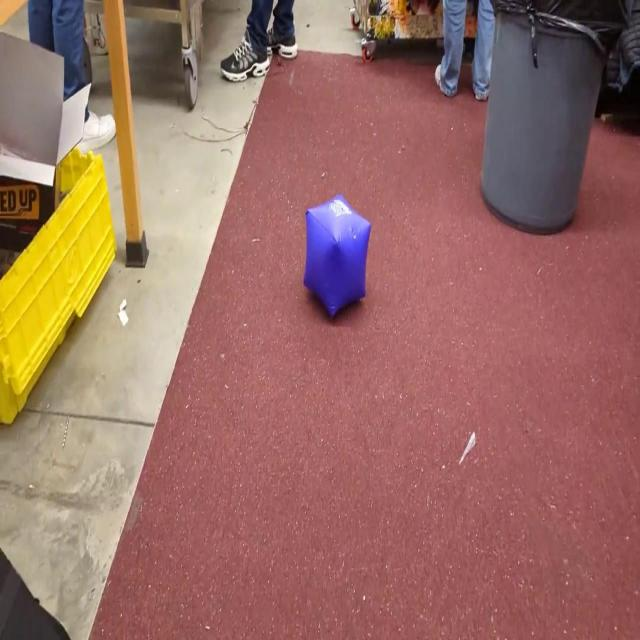frc_cube: (303, 189, 371, 322)
